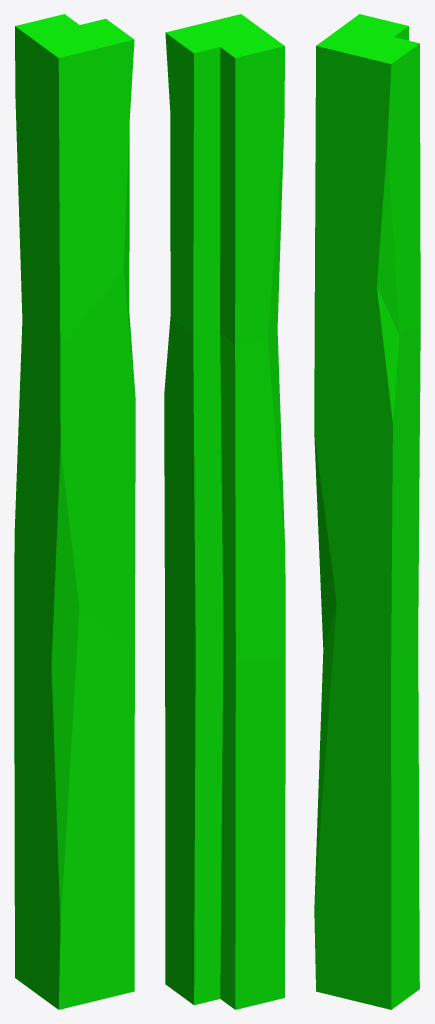
File: SM_Wall_Beam_Vertical_Corner_Out_A_3m.fbx
The picture shows the model from 3 angles, left to right: view 1: azimuth 30°, elevation 25°; view 2: azimuth 210°, elevation 25°; view 3: azimuth 330°, elevation 25°; orthographic projection.
Visible parts, largest first — view 1: wall-beam-vertical-corner-out-a-3m; view 2: wall-beam-vertical-corner-out-a-3m; view 3: wall-beam-vertical-corner-out-a-3m.
Boxes of the visible parts, x1,y1,x2,y2 form: wall-beam-vertical-corner-out-a-3m: [14, 14, 135, 1009]; wall-beam-vertical-corner-out-a-3m: [164, 14, 285, 1009]; wall-beam-vertical-corner-out-a-3m: [314, 14, 420, 1009].
Size of the model in its own units: 0.2551 by 3 by 0.2727.
